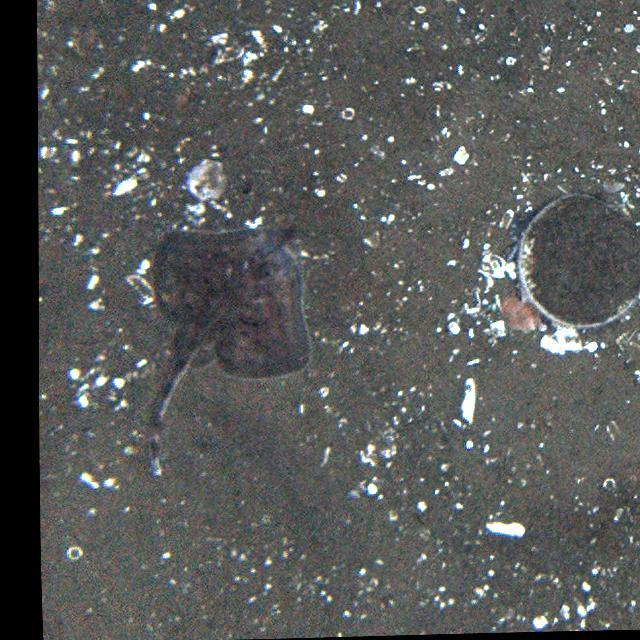skate: (126, 217, 311, 478)
